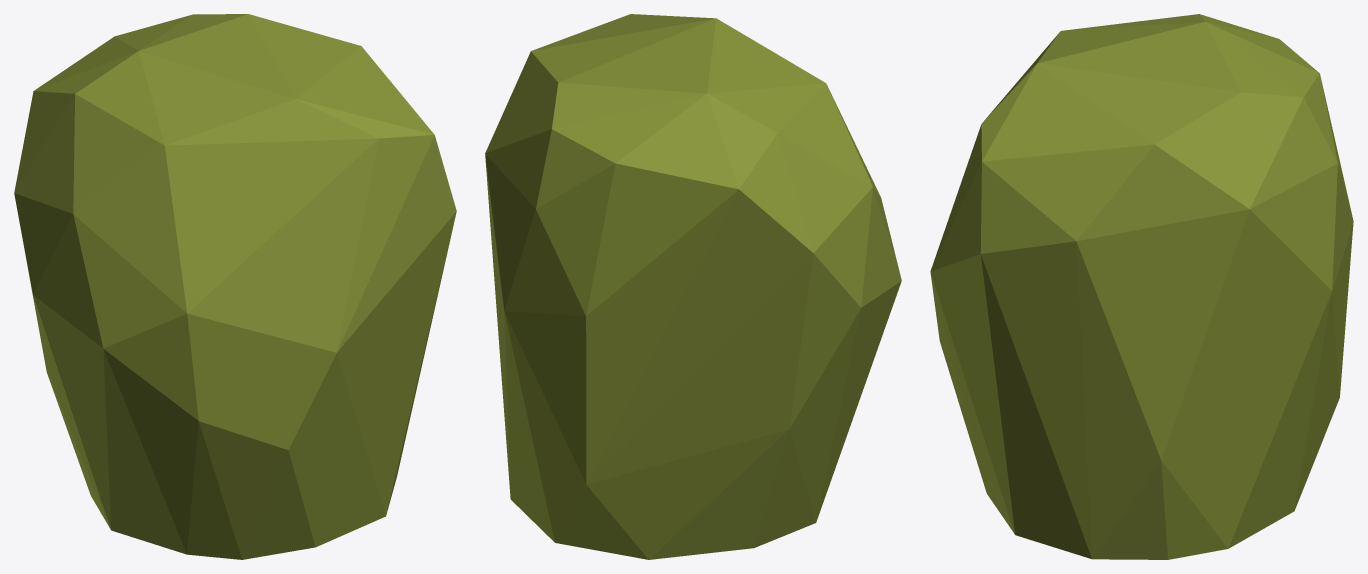
Rendered from ea_swamp_grass_02e_pre__9__lev1.glb.
The picture shows the model from 3 angles, left to right: view 1: azimuth 30°, elevation 25°; view 2: azimuth 150°, elevation 25°; view 3: azimuth 270°, elevation 25°; orthographic projection.
Parts seen in each view (by area): view 1: ea_swamp_grass_02e_pre__9__lev1; view 2: ea_swamp_grass_02e_pre__9__lev1; view 3: ea_swamp_grass_02e_pre__9__lev1.
Boxes of the visible parts, x1,y1,x2,y2 form: ea_swamp_grass_02e_pre__9__lev1: (14,14,456,559); ea_swamp_grass_02e_pre__9__lev1: (485,14,901,559); ea_swamp_grass_02e_pre__9__lev1: (930,14,1353,559).
Size of the model in its own units: 2.19 by 2.53 by 2.22.
Materials: 1 (1 with a texture image).
